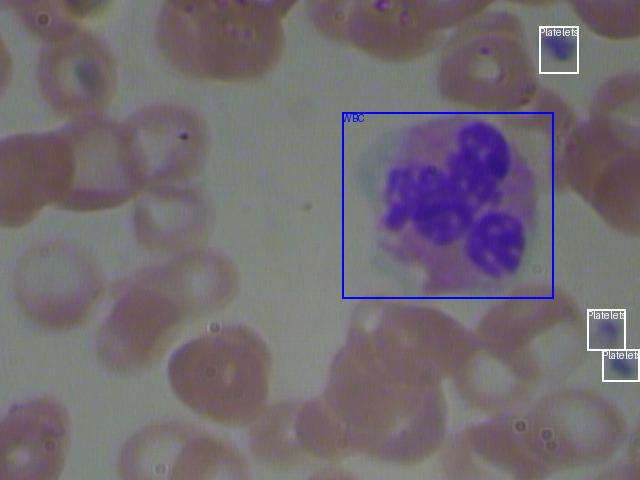Platelets: (539, 26, 578, 73), (587, 309, 625, 350), (602, 349, 639, 381)
WBC: (342, 112, 553, 298)
